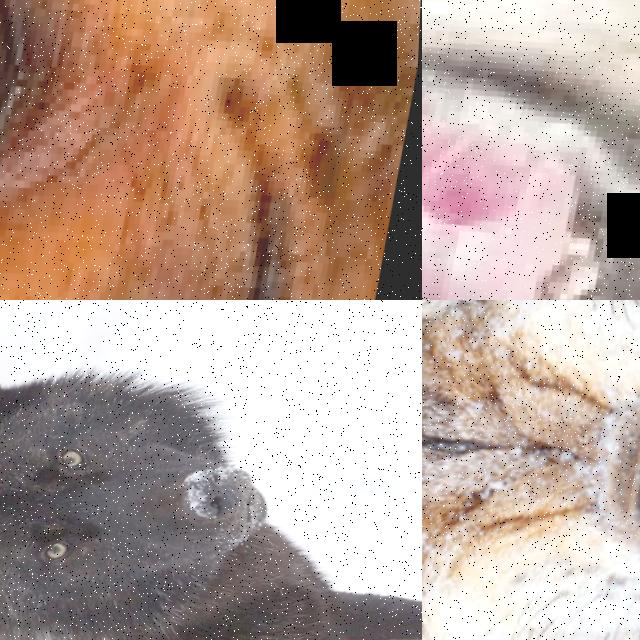dog: (0, 0, 422, 300), (422, 0, 640, 300)
wolf: (0, 300, 422, 640), (422, 300, 640, 640)
